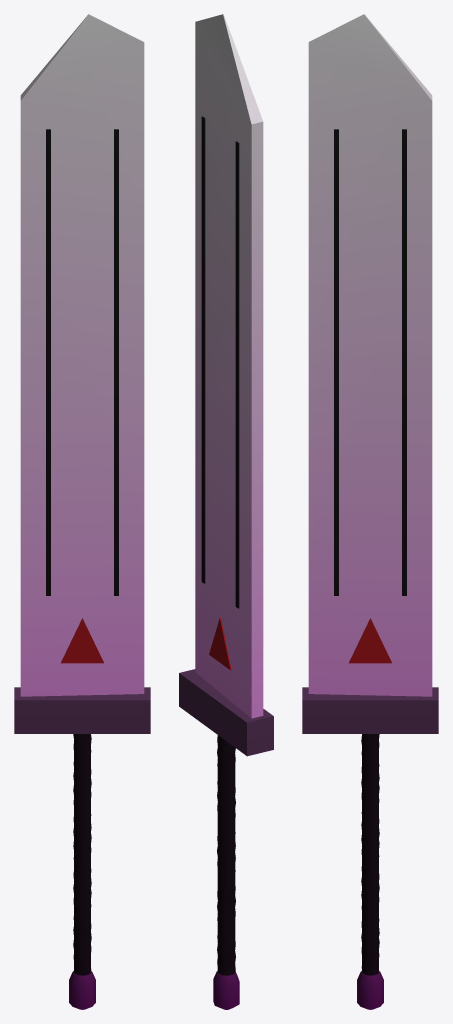
The model's file is broadsword.glb.
3 renders of one model, left to right at view 1: azimuth 90°, elevation 25°; view 2: azimuth 210°, elevation 25°; view 3: azimuth 270°, elevation 25°, orthographic.
Parts seen in each view (by area): view 1: Broadsword; view 2: Broadsword; view 3: Broadsword.
Part boxes in pixels (left/top/right/bottom): Broadsword: left=14, top=14, right=150, bottom=1009; Broadsword: left=179, top=14, right=273, bottom=1009; Broadsword: left=302, top=14, right=438, bottom=1009.
Size of the model in its own units: 0.05 by 1.77 by 0.22.
